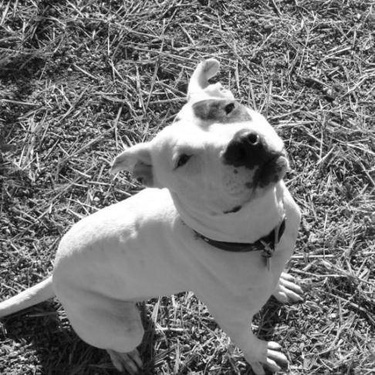dog: (1, 52, 305, 373)
